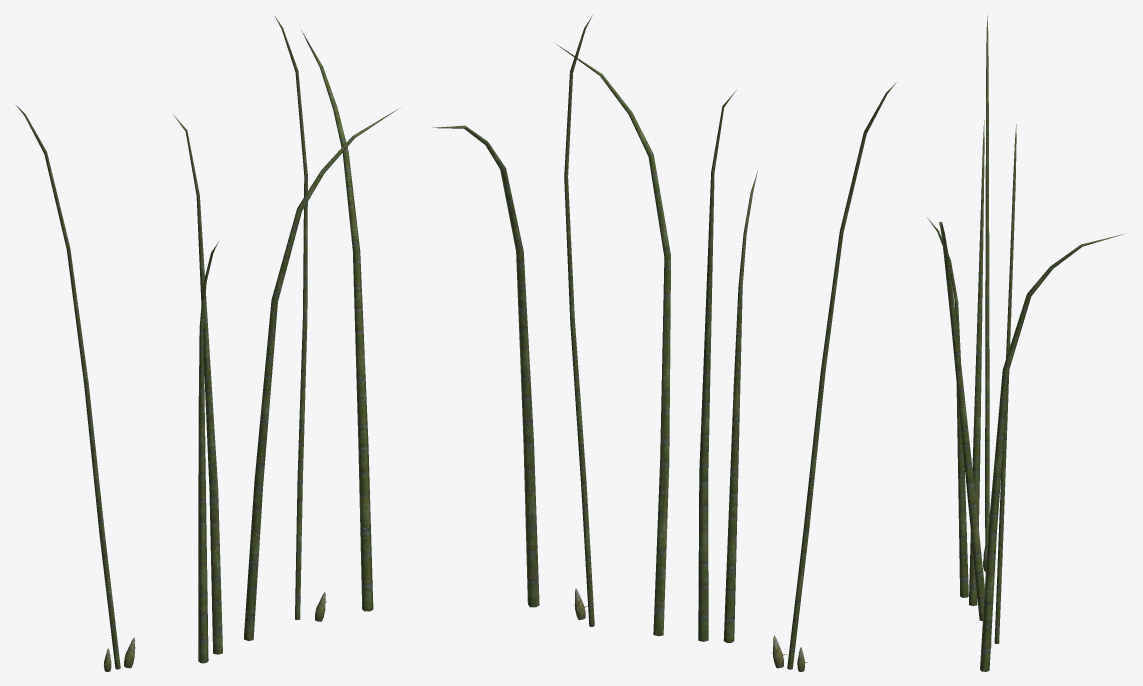
The model's file is p_com_zhugan01.FBX.
3 views of the same model, side by side, from view 1: azimuth 30°, elevation 25°; view 2: azimuth 150°, elevation 25°; view 3: azimuth 270°, elevation 25° (orthographic). The views are drawn at different scales.
Parts seen in each view (by area): view 1: p_com_zhugan01; view 2: p_com_zhugan01; view 3: p_com_zhugan01.
Part boxes in pixels (x1,y1,x2,y2): p_com_zhugan01: (15, 16, 399, 671); p_com_zhugan01: (432, 15, 896, 671); p_com_zhugan01: (927, 15, 1125, 671).
Size of the model in its own units: 7.6 by 11.87 by 4.21.
